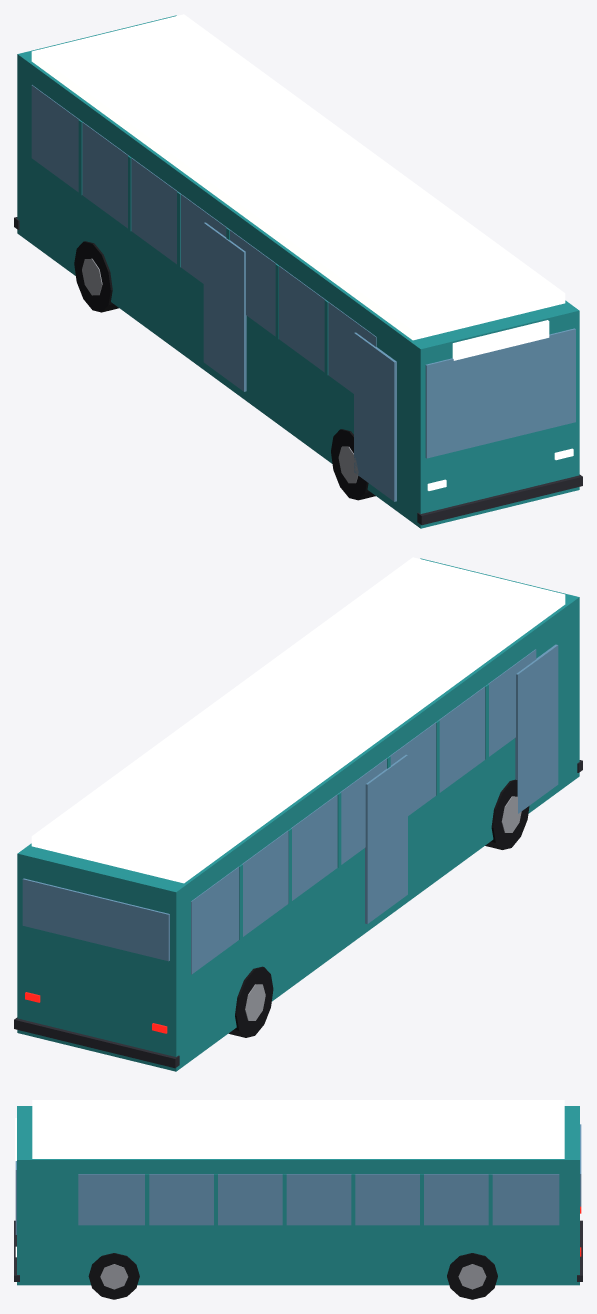
Rendered from city_bus.glb.
The picture shows the model from 3 angles, top to bottom: view 1: azimuth 30°, elevation 25°; view 2: azimuth 150°, elevation 25°; view 3: azimuth 270°, elevation 25°; orthographic projection. The views are drawn at different scales.
Visible parts, largest first — view 1: city_bus; view 2: city_bus; view 3: city_bus.
Boxes of the visible parts, x1,y1,x2,y2 form: city_bus: (14,14,582,528); city_bus: (14,557,582,1071); city_bus: (14,1100,582,1299).
Size of the model in its own units: 2.58 by 3.15 by 11.12.
